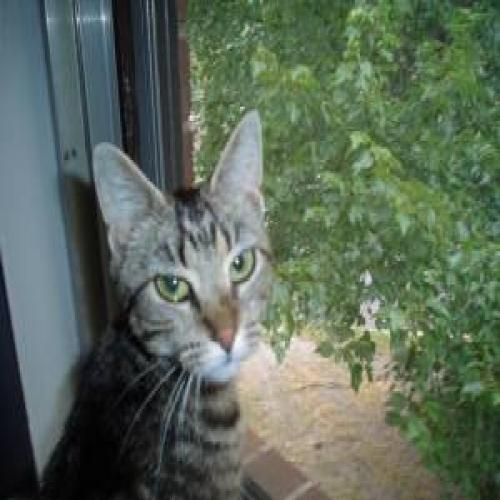bengal: (83, 103, 286, 409)
